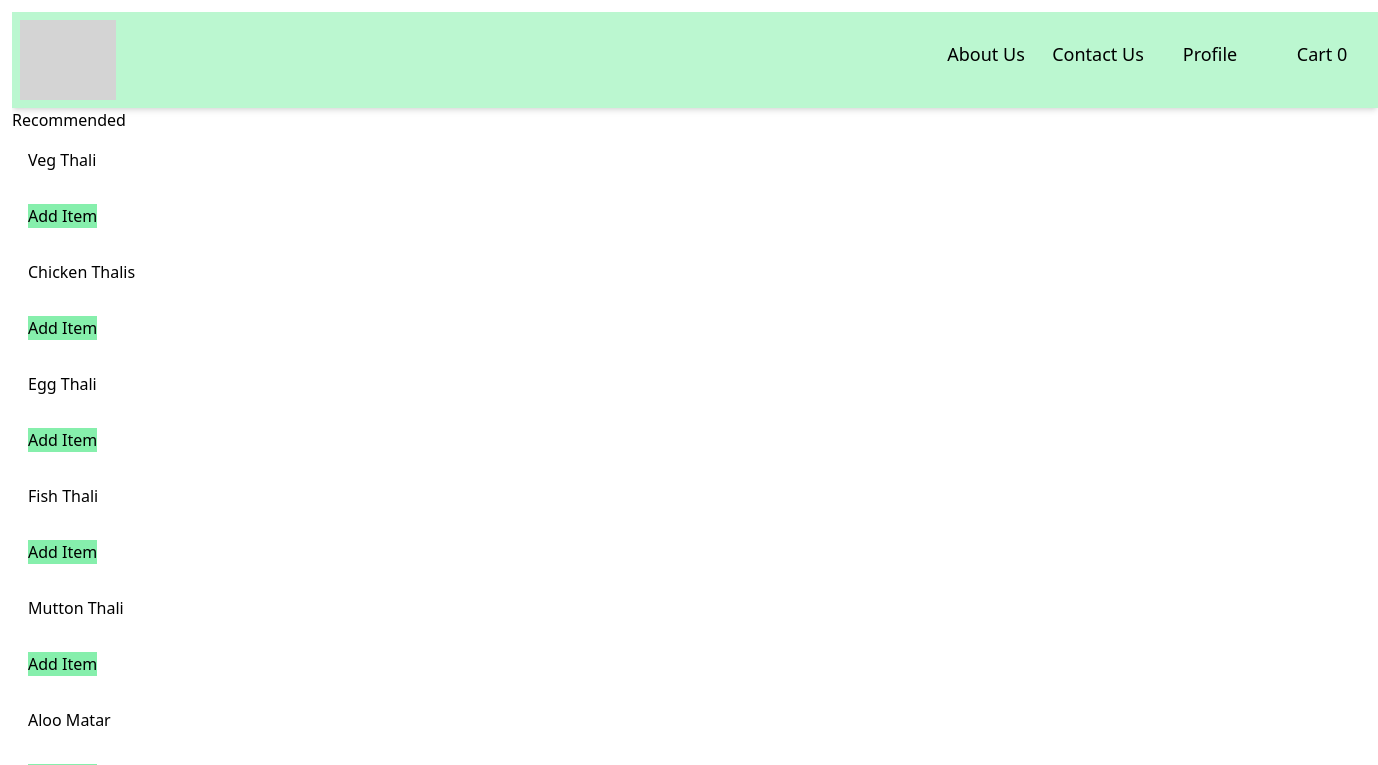
Test case: Check if restaurant menu is rendered
Click the button with test id "menu-btn" below "Veg Thali": (63, 216) [28,204,97,228]
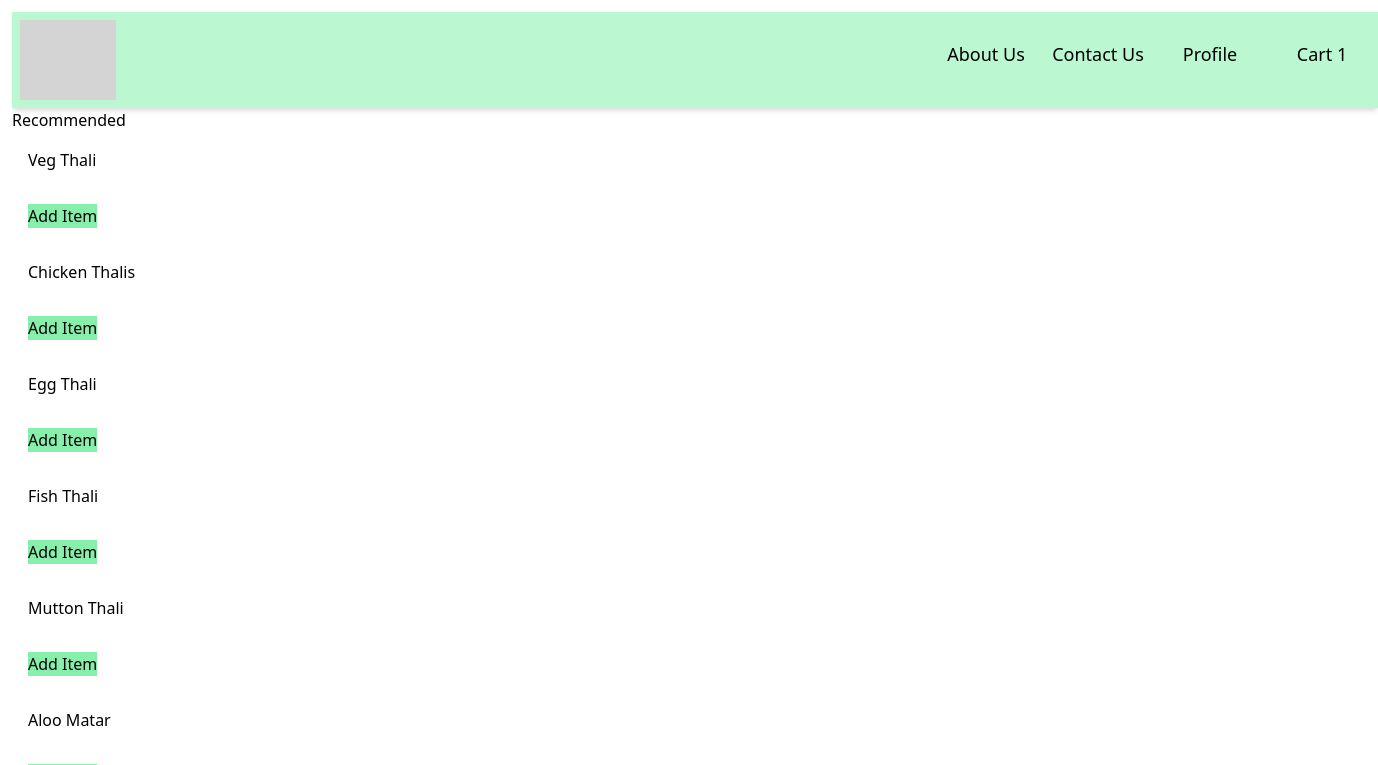
Click the button with test id "menu-btn" below "Veg Thali": (63, 216) [28,204,97,228]
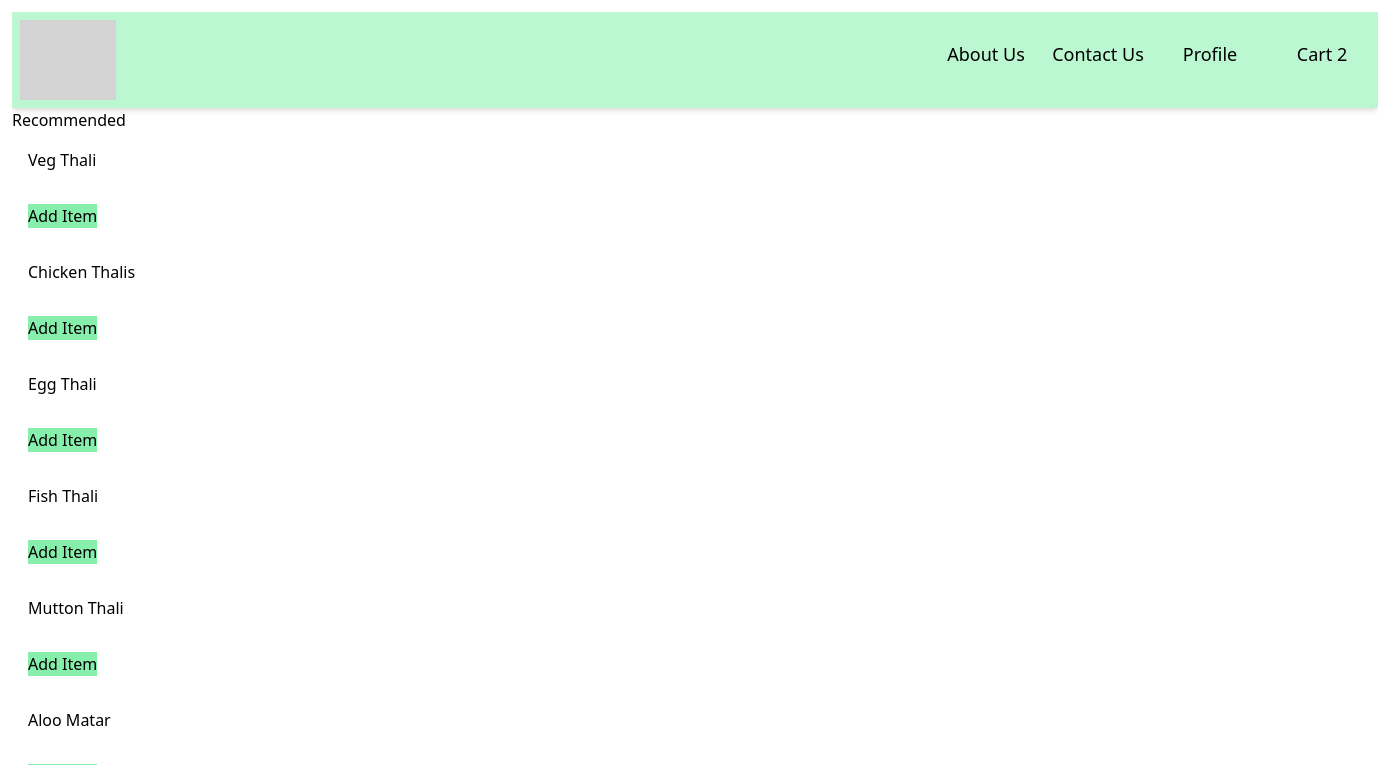
Check: the text with test id "Cart" reads "Cart 2", box [1297,42,1347,66]
